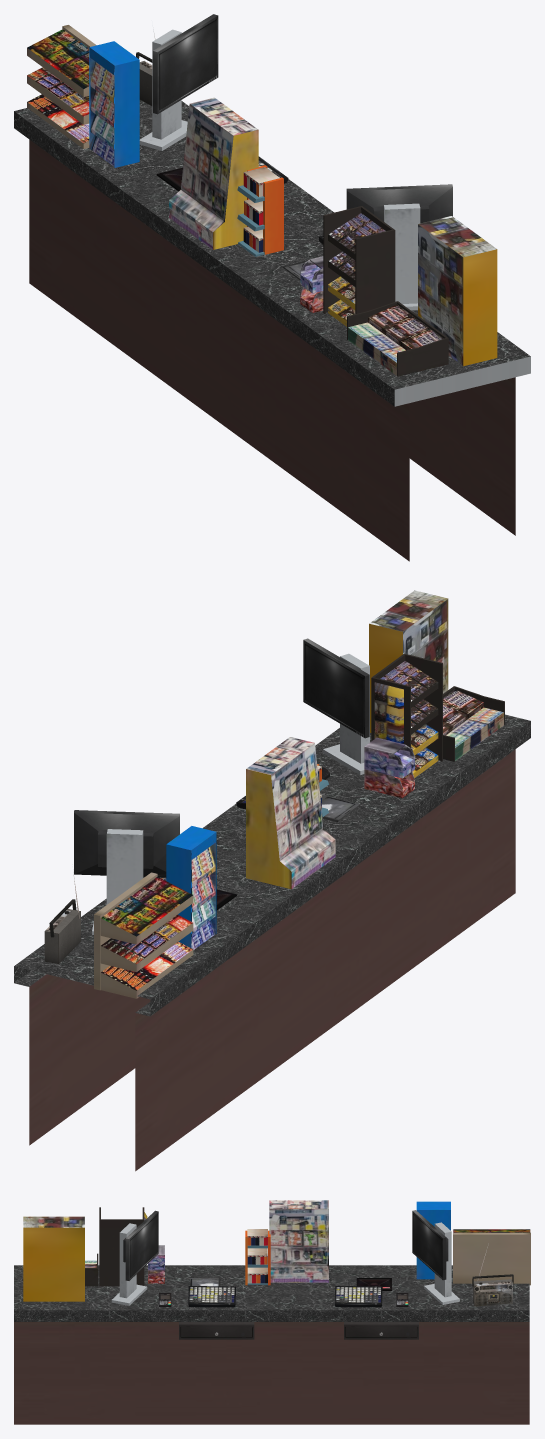
File: table1.glb
3 renders of one model, top to bottom at view 1: azimuth 30°, elevation 25°; view 2: azimuth 150°, elevation 25°; view 3: azimuth 270°, elevation 25°, orthographic. The views are drawn at different scales.
Visible parts, largest first — view 1: Management_Plaster_0.001; view 2: Management_Plaster_0.001; view 3: Management_Plaster_0.001.
Boxes of the visible parts, x1,y1,x2,y2 form: Management_Plaster_0.001: [14, 14, 530, 561]; Management_Plaster_0.001: [14, 590, 530, 1171]; Management_Plaster_0.001: [14, 1200, 530, 1424].
Bounding box in the file's own units: 0.9695 × 1.82 × 4.43.
6 materials, 6 textured.
